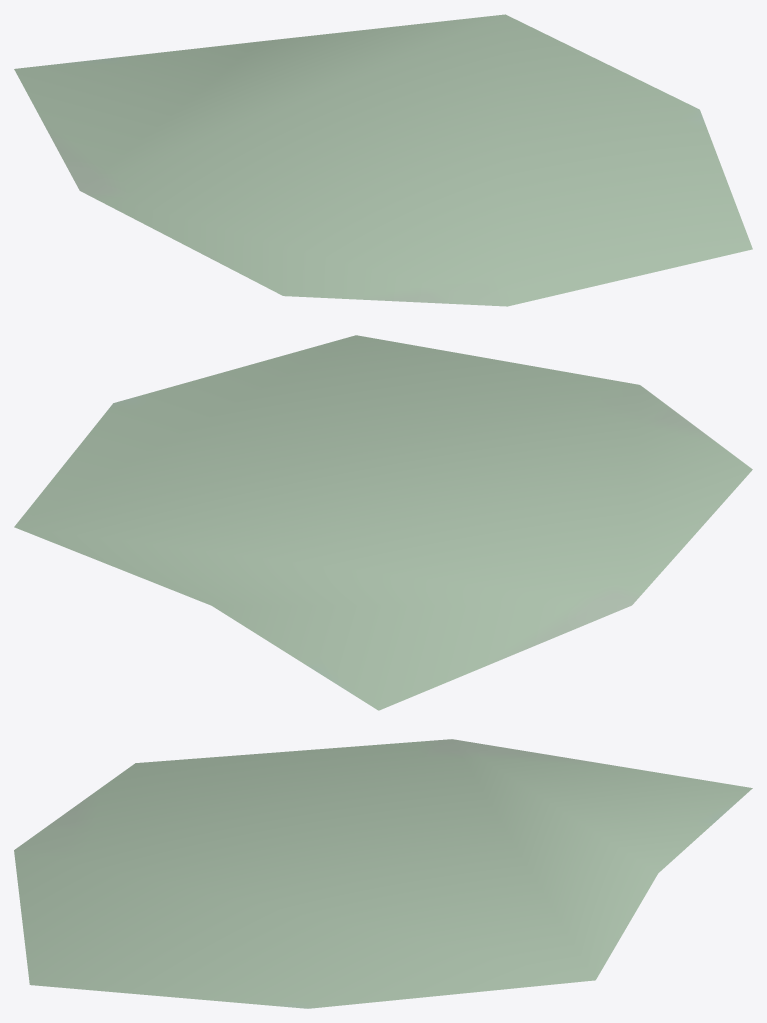
The model's file is TROLLHOLE02_HOLECAP12.fbx.
The picture shows the model from 3 angles, top to bottom: view 1: azimuth 30°, elevation 25°; view 2: azimuth 150°, elevation 25°; view 3: azimuth 270°, elevation 25°; orthographic projection. The views are drawn at different scales.
Visible parts, largest first — view 1: TROLLHOLE02_HOLECAP12; view 2: TROLLHOLE02_HOLECAP12; view 3: TROLLHOLE02_HOLECAP12.
Part boxes in pixels (x1,y1,x2,y2): TROLLHOLE02_HOLECAP12: (14, 14, 752, 306); TROLLHOLE02_HOLECAP12: (14, 335, 752, 710); TROLLHOLE02_HOLECAP12: (14, 739, 752, 1008).
Size of the model in its own units: 28396 by 1156 by 32900.
Materials: 1 (1 with a texture image).
